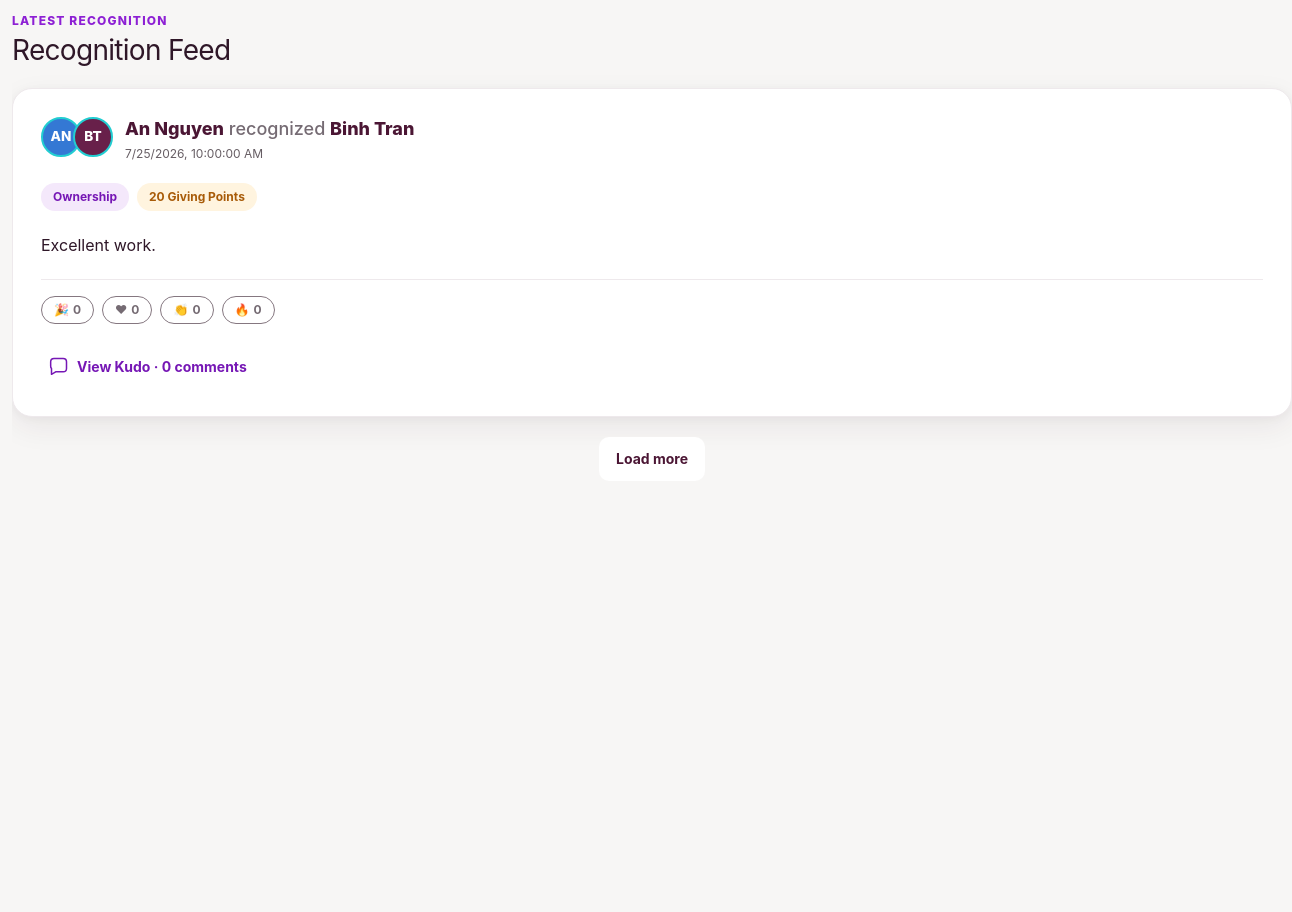
Test: Phase 4 Feed and community frontend › deduplicates cursor pages and keeps the latest server representation
Expected: the text "Excellent work." is shown, x1=41 y1=235 x2=156 y2=255
Step 1. Click the button "Load more" → [652, 459], box x1=599 y1=437 x2=705 y2=481
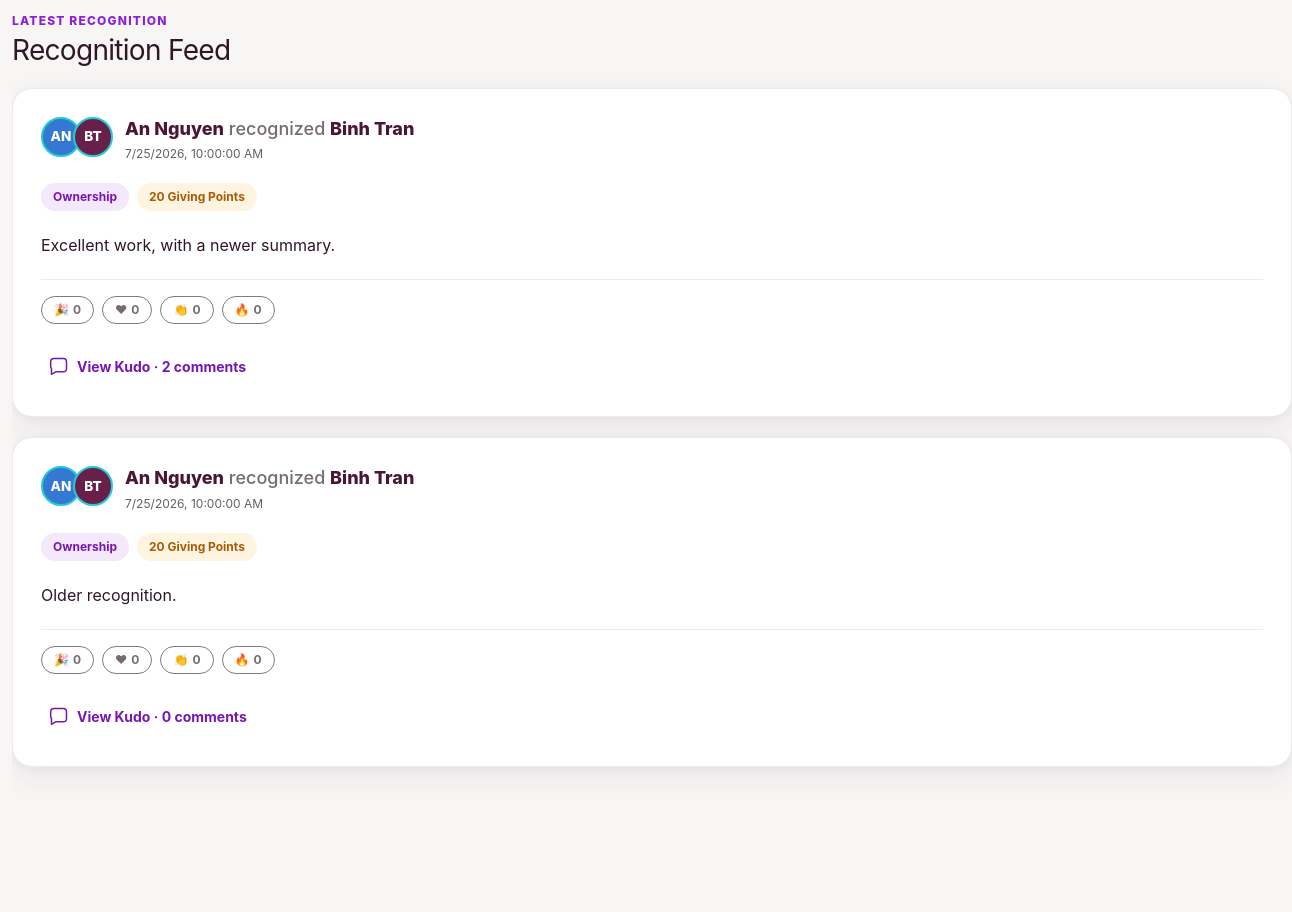
Now the text "Older recognition." is shown, box x1=41 y1=585 x2=176 y2=605
Now the text "Excellent work, with a newer summary." is shown, box x1=41 y1=235 x2=335 y2=255
Now the link "View Kudo · 2 comments" is shown, box x1=49 y1=356 x2=246 y2=376
